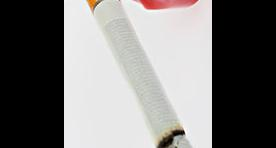Cigarette: (76, 0, 208, 148)
